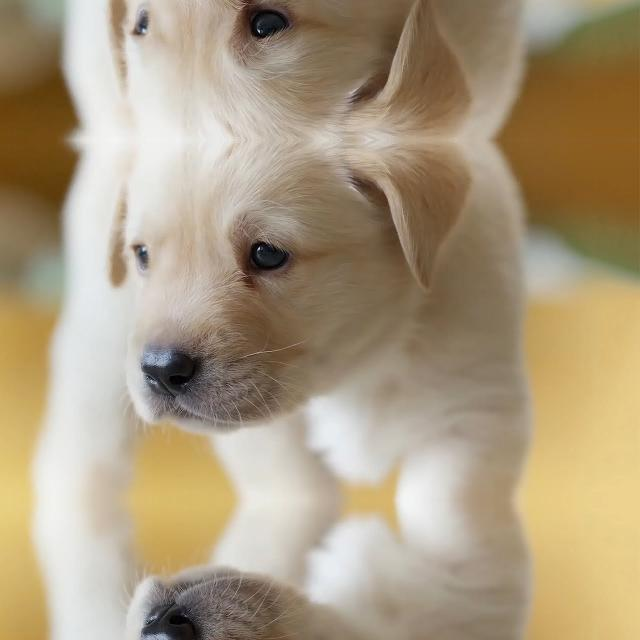dog: (56, 140, 454, 428), (56, 0, 454, 140), (56, 571, 454, 640)
